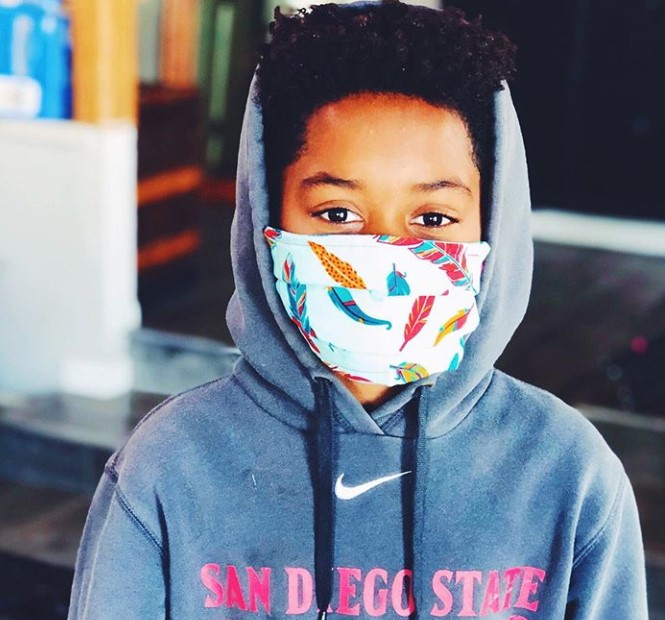face_with_mask: (256, 40, 514, 391)
